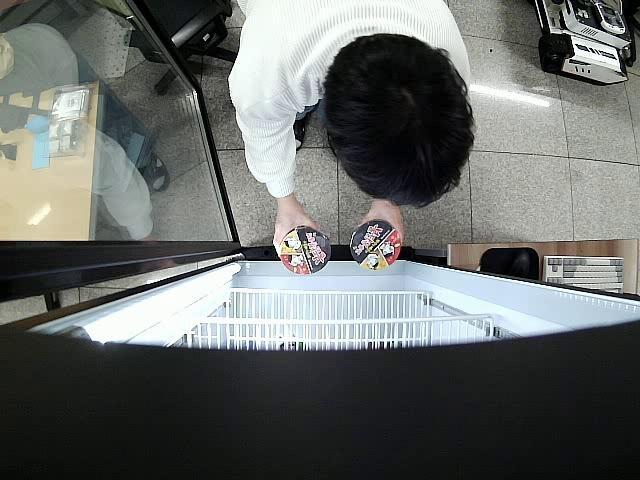07_buldak_L: (348, 220, 401, 270), (280, 228, 332, 276)
